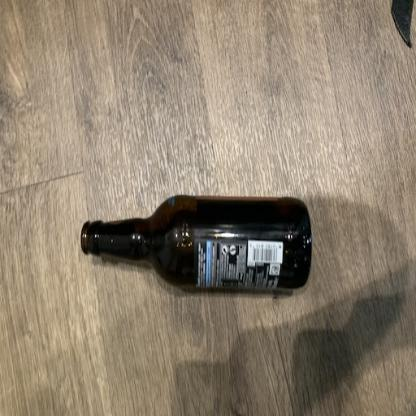trash: (80, 193, 314, 297)
